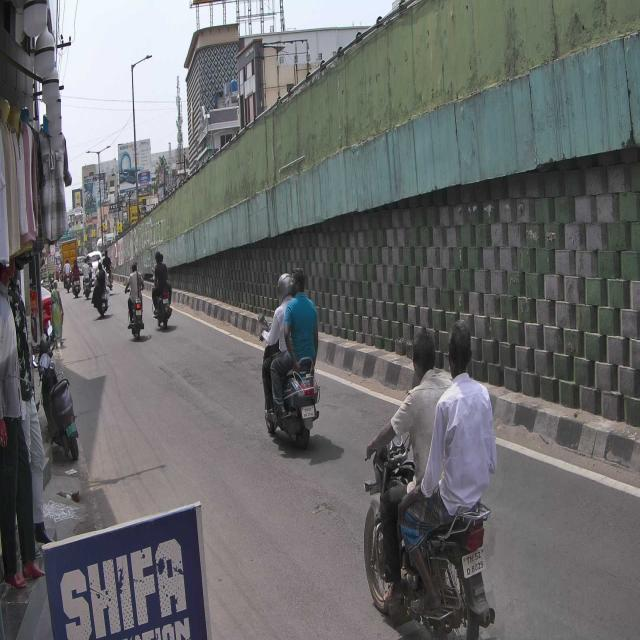double_rider: (361, 320, 498, 640), (255, 265, 320, 452)
